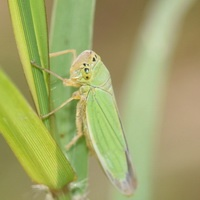insect: (31, 50, 135, 194)
